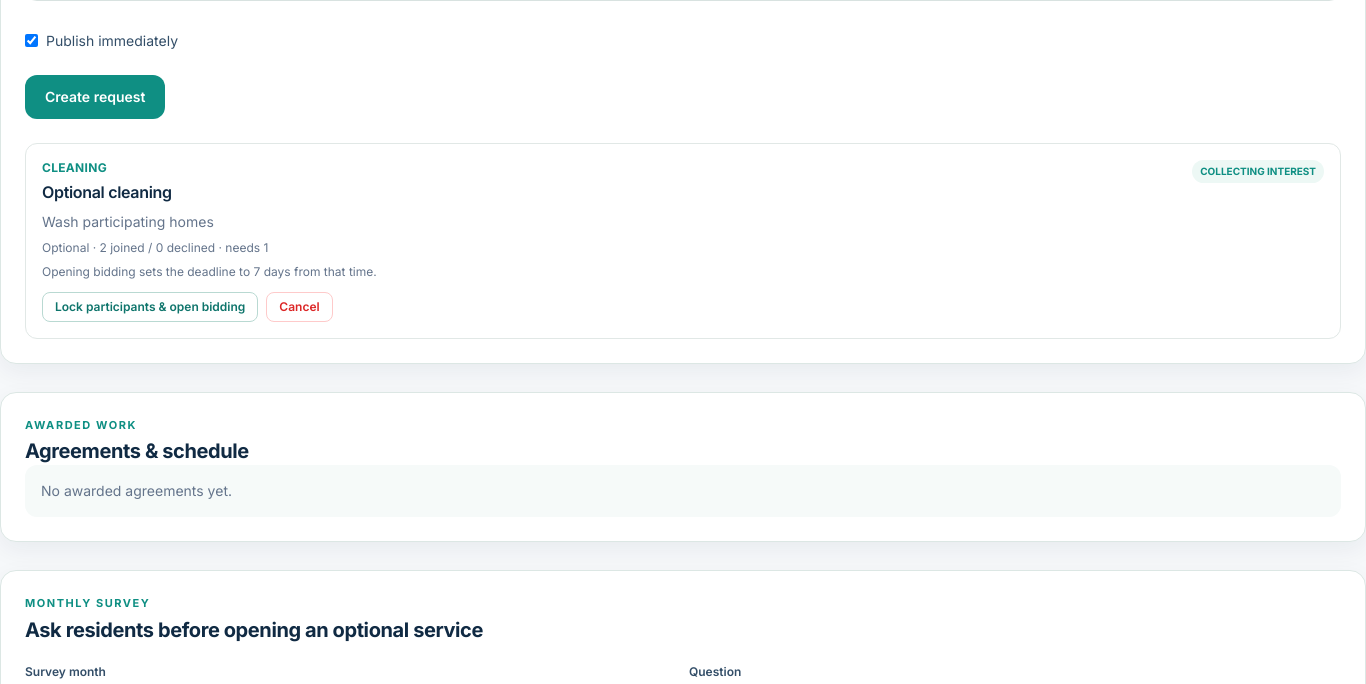
Test case: HOA manager bidding deadlines › disables duplicate opening while pending and refreshes after success
(page scrolled)
Click the button "Lock participants & open bidding".
click(150, 306)  # box [42, 292, 258, 322]
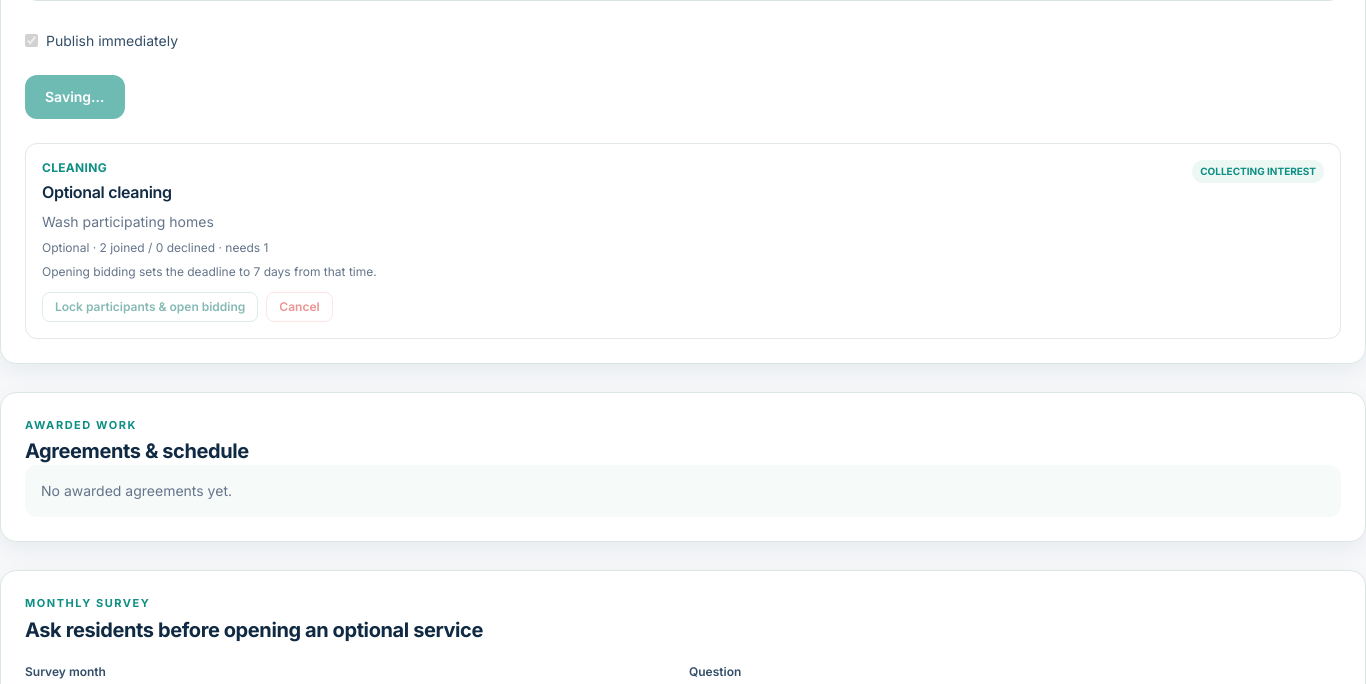
expect the button "Lock participants & open bidding" is disabled: met
Click the button "Lock participants & open bidding".
click(150, 306)  # box [42, 292, 258, 322]
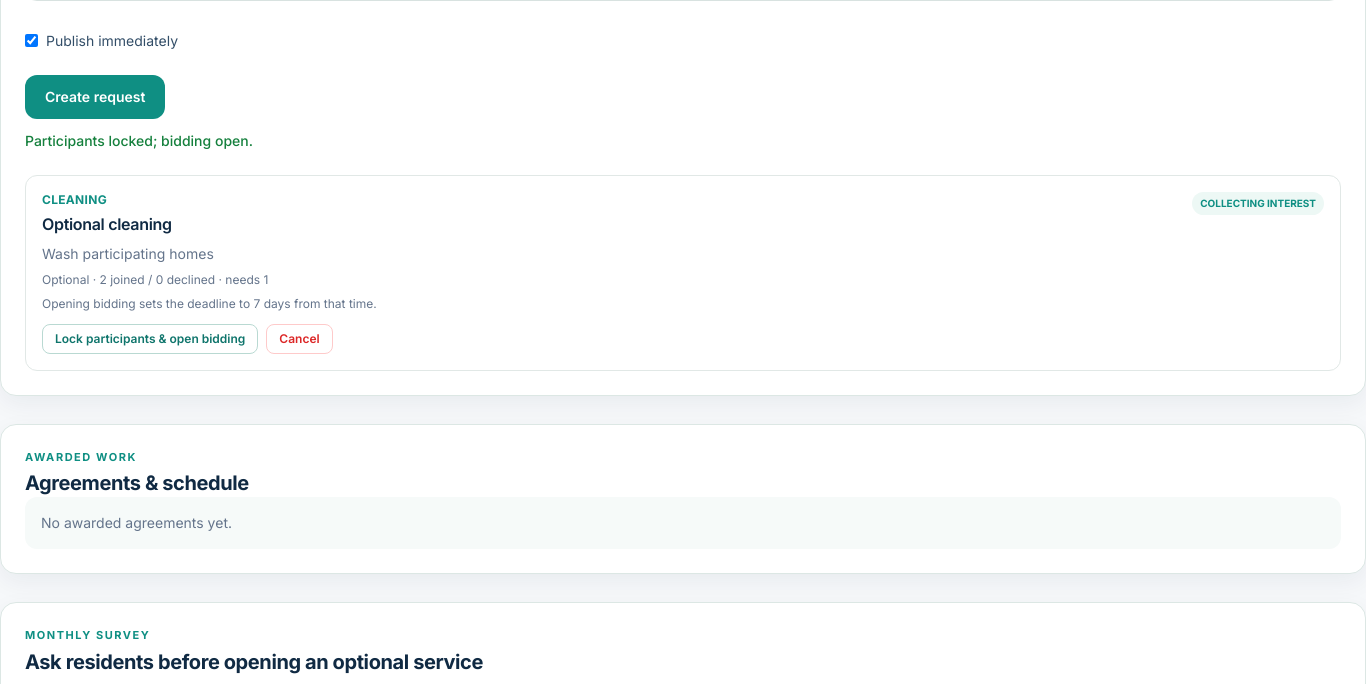
expect the message shows "bidding open": met, box [25, 132, 253, 148]
